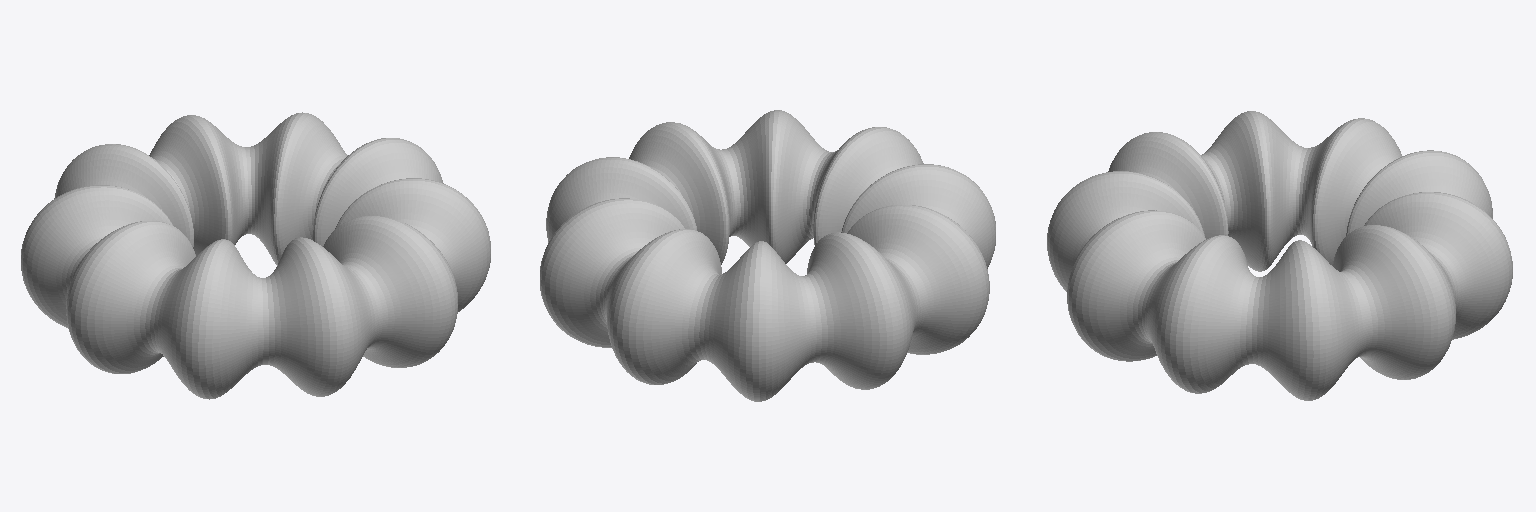
The model's file is ringedtorus.obj.
3 views of the same model, side by side, from view 1: azimuth 30°, elevation 25°; view 2: azimuth 150°, elevation 25°; view 3: azimuth 270°, elevation 25° (orthographic).
Visible parts, largest first — view 1: XYZ_Function.006; view 2: XYZ_Function.006; view 3: XYZ_Function.006.
Boxes of the visible parts, x1,y1,x2,y2 form: XYZ_Function.006: [21, 112, 490, 399]; XYZ_Function.006: [540, 110, 995, 401]; XYZ_Function.006: [1047, 111, 1512, 400].
Bounding box in the file's own units: 15.03 × 5.19 × 15.03.